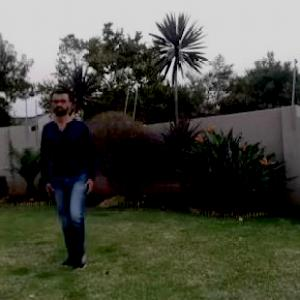follow: (49, 92, 95, 256)
